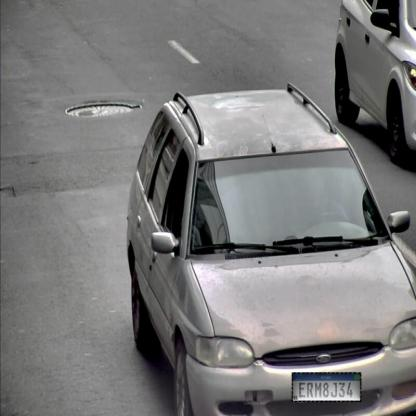PlacaM: (292, 372, 361, 402)
